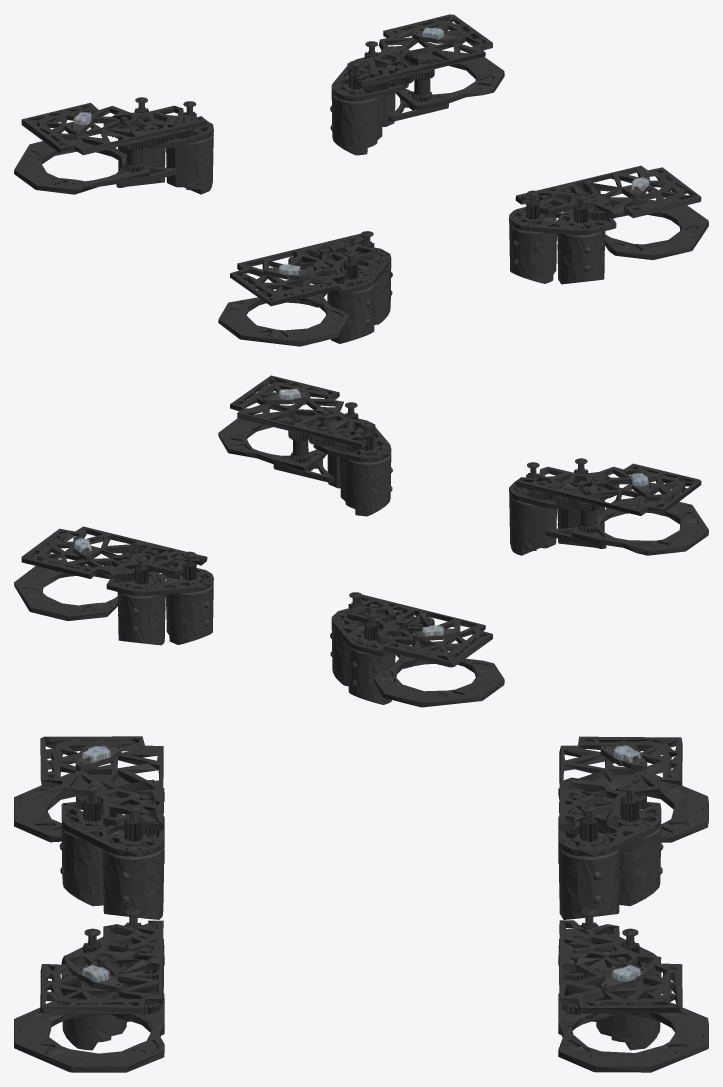
The model's file is 8793-swerve.glb.
3 renders of one model, top to bottom at view 1: azimuth 30°, elevation 25°; view 2: azimuth 150°, elevation 25°; view 3: azimuth 270°, elevation 25°, orthographic. The views are drawn at different scales.
Parts seen in each view (by area): view 1: WCP Swerve X2 (Tube Mount Bottom Plate) (WCP-1704), Kraken X60 powered by Talon FX (WCP-0940), 12t Steel Spur Gear (20 DP, 8mm SplineXS Bore) (WCP-1010), CTR CANcoder (WCP-1484-002); view 2: WCP Swerve X2 (Tube Mount Bottom Plate) (WCP-1704), Kraken X60 powered by Talon FX (WCP-0940), 12t Steel Spur Gear (20 DP, 8mm SplineXS Bore) (WCP-1010), CTR CANcoder (WCP-1484-002); view 3: WCP Swerve X2 (Tube Mount Bottom Plate) (WCP-1704), Kraken X60 powered by Talon FX (WCP-0940), 12t Steel Spur Gear (20 DP, 8mm SplineXS Bore) (WCP-1010), CTR CANcoder (WCP-1484-002).
Boxes of the visible parts, box(x1,y1,x2,y2) form: WCP Swerve X2 (Tube Mount Bottom Plate) (WCP-1704): box(14, 14, 708, 346); Kraken X60 powered by Talon FX (WCP-0940): box(72, 31, 650, 343); 12t Steel Spur Gear (20 DP, 8mm SplineXS Bore) (WCP-1010): box(134, 51, 588, 279); CTR CANcoder (WCP-1484-002): box(73, 27, 649, 275); WCP Swerve X2 (Tube Mount Bottom Plate) (WCP-1704): box(14, 375, 708, 707); Kraken X60 powered by Talon FX (WCP-0940): box(73, 392, 649, 704); 12t Steel Spur Gear (20 DP, 8mm SplineXS Bore) (WCP-1010): box(134, 412, 588, 640); CTR CANcoder (WCP-1484-002): box(74, 388, 648, 636); WCP Swerve X2 (Tube Mount Bottom Plate) (WCP-1704): box(14, 736, 708, 1072); Kraken X60 powered by Talon FX (WCP-0940): box(59, 745, 663, 1050); 12t Steel Spur Gear (20 DP, 8mm SplineXS Bore) (WCP-1010): box(83, 797, 639, 953); CTR CANcoder (WCP-1484-002): box(82, 745, 640, 982).
Bounding box in the file's own units: 0.6729 × 0.115 × 0.6729.
